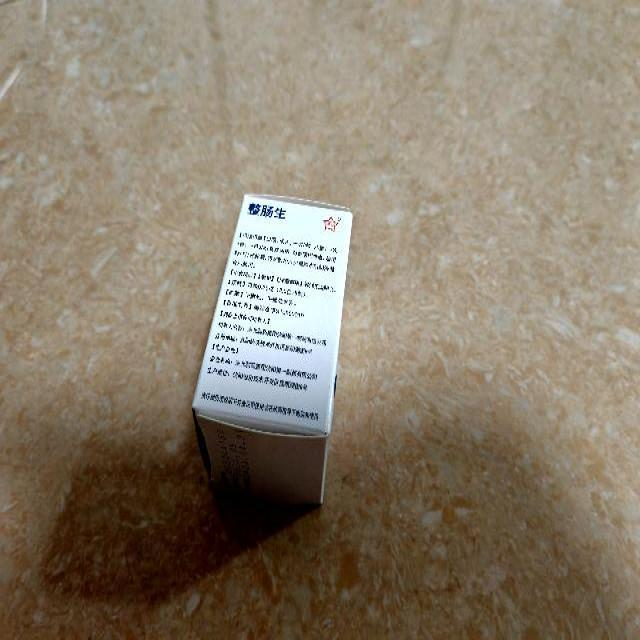box: (190, 193, 352, 507)
